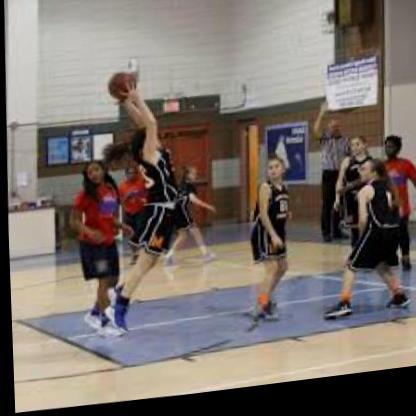basketball: (105, 73, 137, 103)
